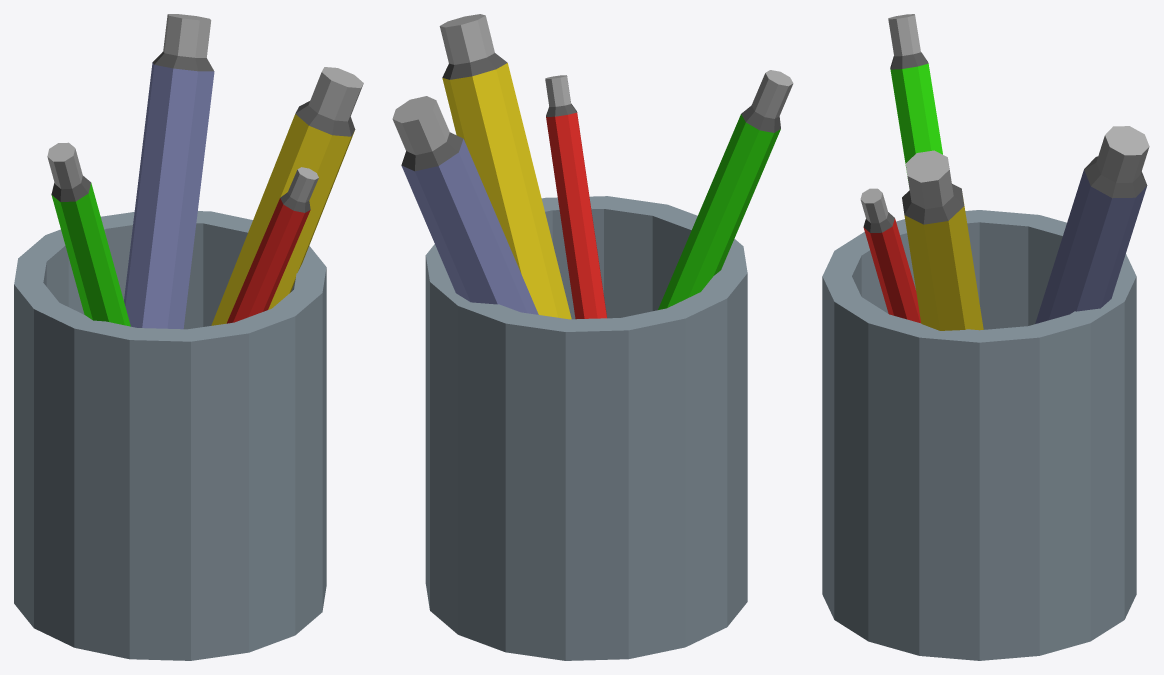
File: Pencil.fbx
3 renders of one model, left to right at view 1: azimuth 30°, elevation 25°; view 2: azimuth 150°, elevation 25°; view 3: azimuth 270°, elevation 25°, orthographic. The views are drawn at different scales.
Parts seen in each view (by area): view 1: Cylinder.032; view 2: Cylinder.032; view 3: Cylinder.032.
Part boxes in pixels (x1=…): Cylinder.032: x1=14, y1=14, x2=363, y2=660; Cylinder.032: x1=392, y1=14, x2=793, y2=660; Cylinder.032: x1=822, y1=14, x2=1149, y2=660.
Bounding box in the file's own units: 237 × 359 × 208.
